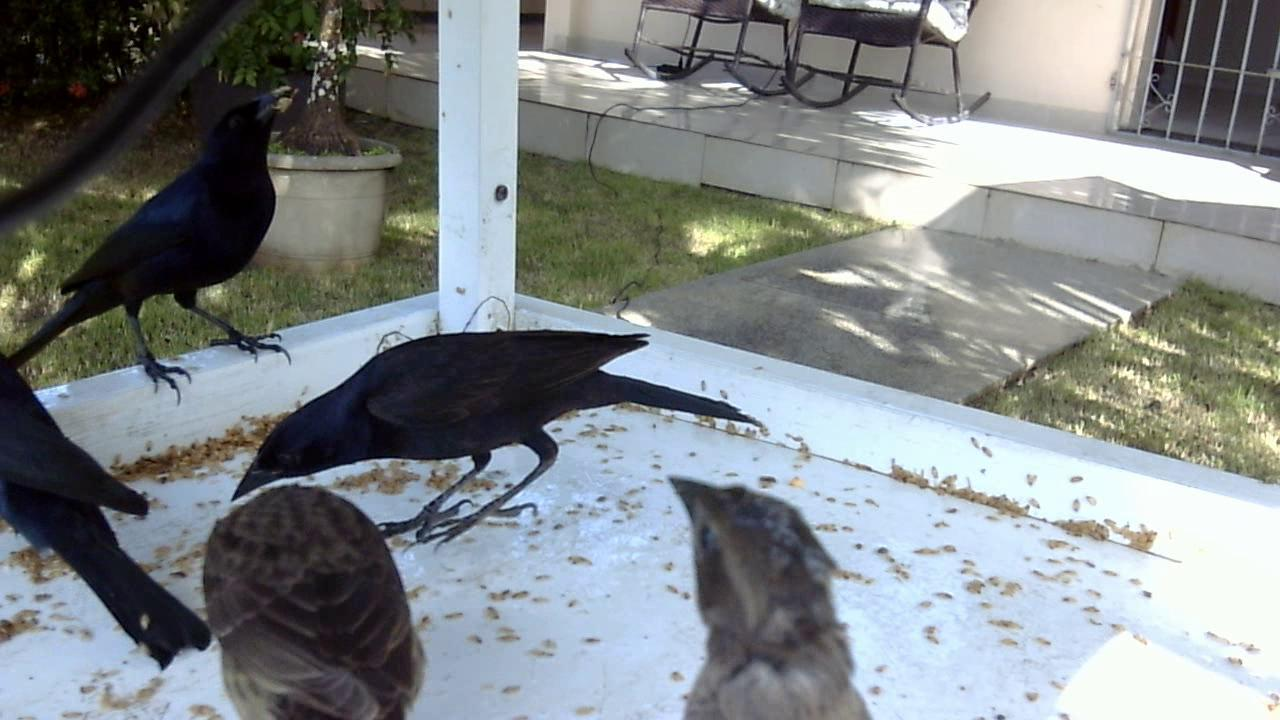chupim: (214, 311, 778, 573), (1, 78, 308, 420), (1, 327, 222, 645), (658, 465, 898, 720), (195, 469, 452, 702)
